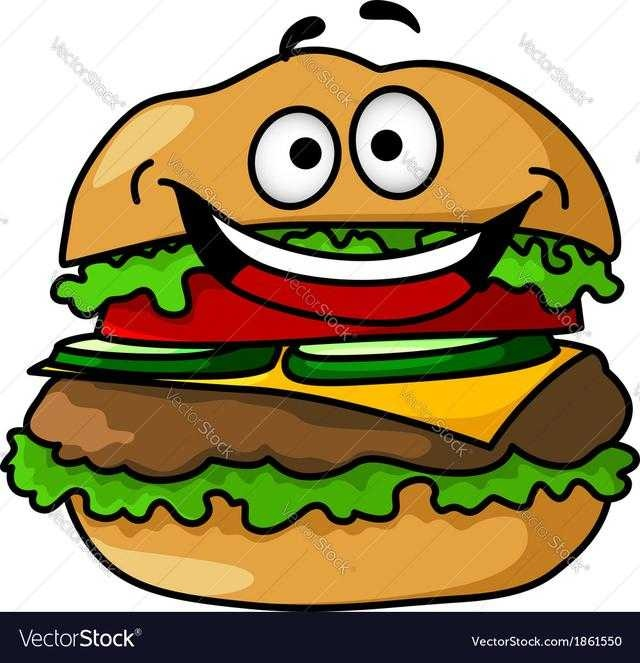hamburger: (35, 55, 611, 597)
